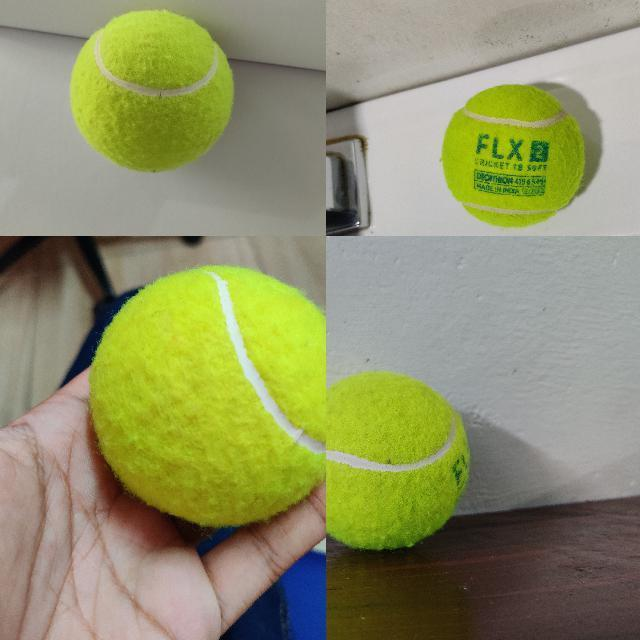tennis-ball: (89, 265, 325, 523), (68, 10, 237, 175), (326, 370, 470, 550), (439, 85, 585, 228)
